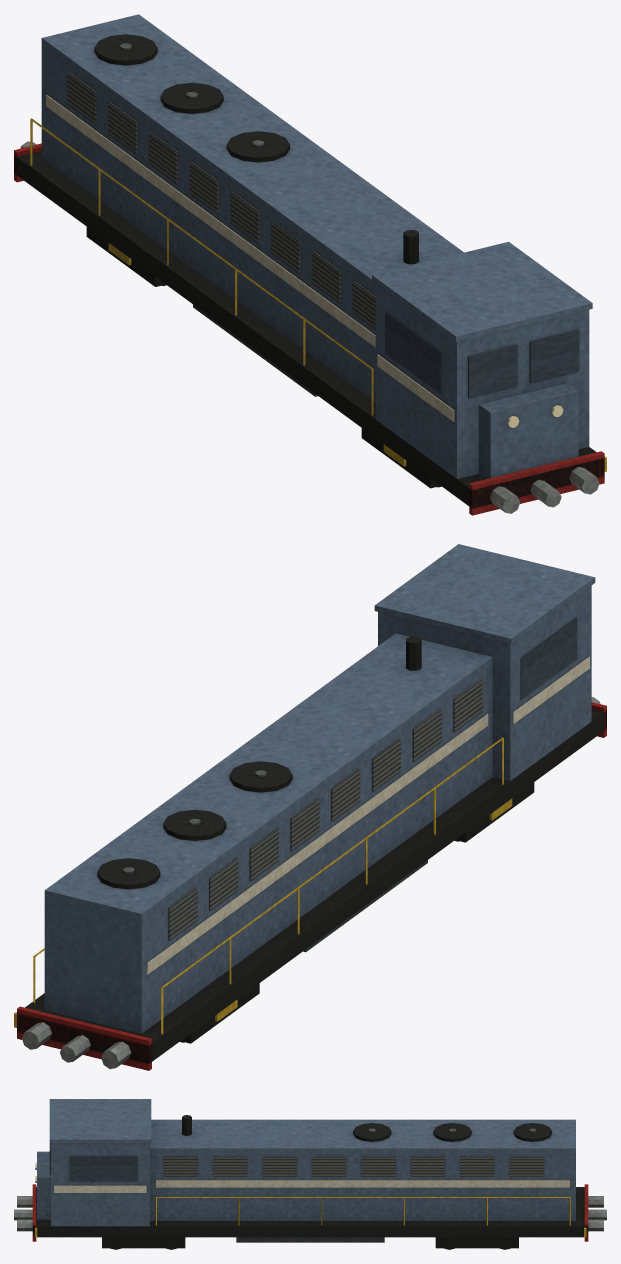
File: loco.glb
3 views of the same model, one above another, from view 1: azimuth 30°, elevation 25°; view 2: azimuth 150°, elevation 25°; view 3: azimuth 270°, elevation 25° (orthographic). The views are drawn at different scales.
Visible parts, largest first — view 1: loco; view 2: loco; view 3: loco.
Boxes of the visible parts, left/top/right/bottom form: loco: left=14, top=14, right=606, bottom=515; loco: left=14, top=544, right=606, bottom=1070; loco: left=14, top=1099, right=606, bottom=1249.
Bounding box in the file's own units: 3.15 × 4.35 × 19.2.
1 material, 1 textured.
